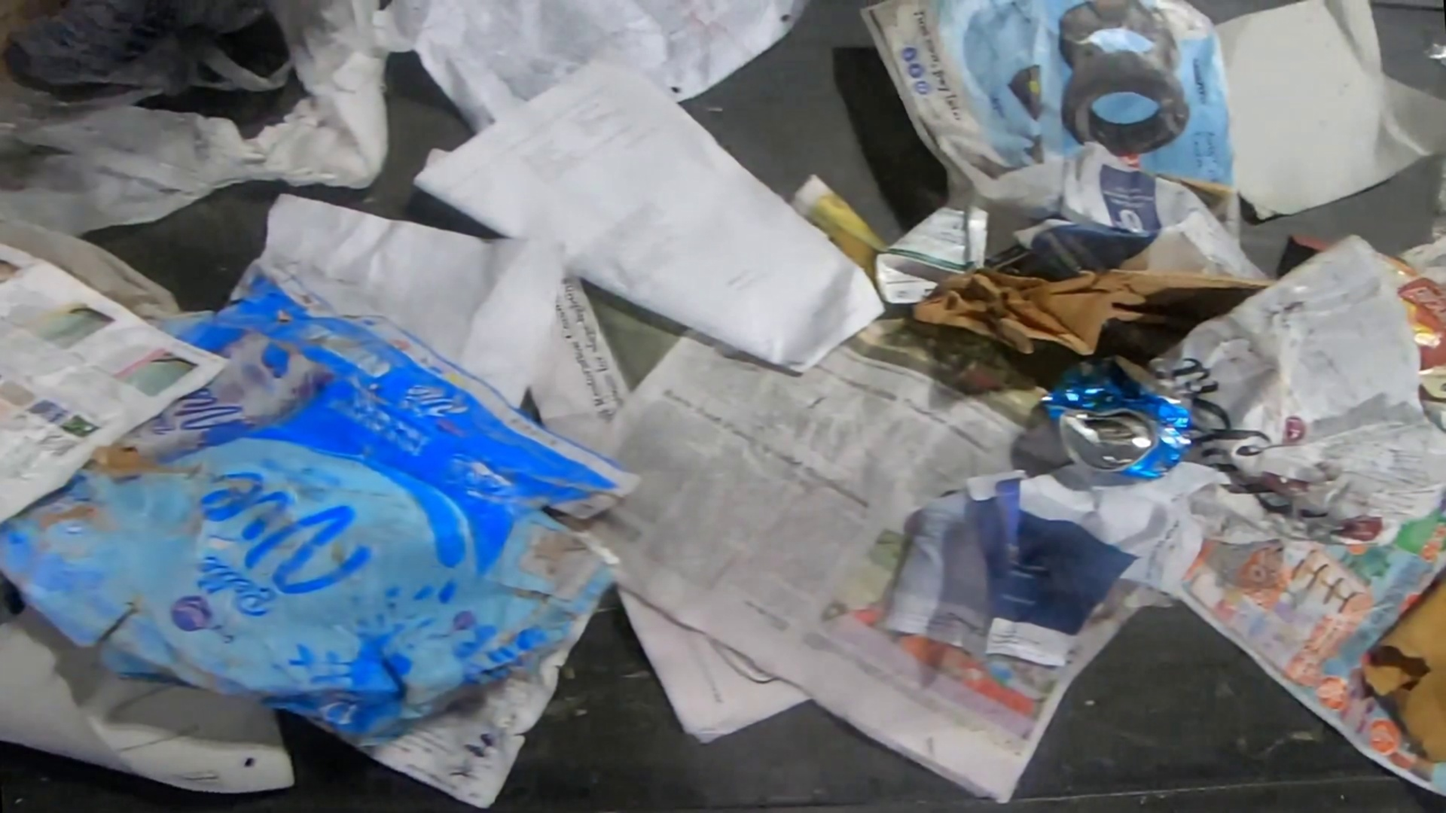cardboard: (0, 257, 654, 757), (1377, 250, 1446, 436)
metal: (1036, 357, 1194, 482)
plastic: (0, 0, 391, 238)
